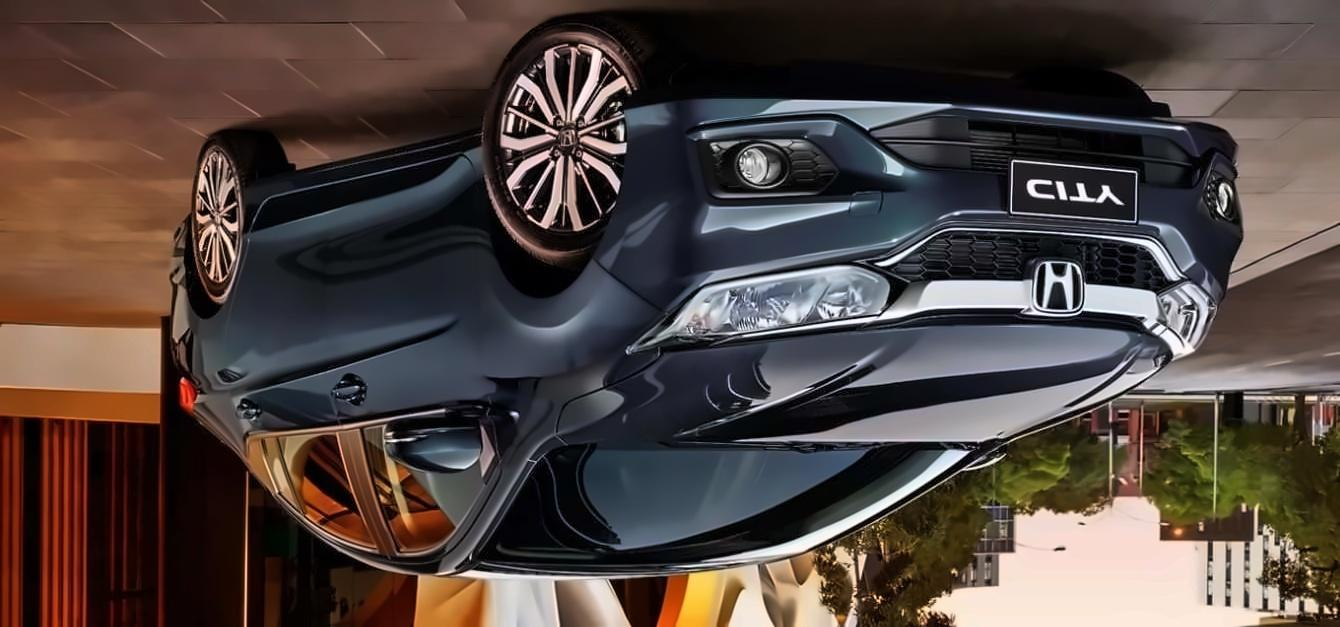Car hood: (554, 310, 1183, 448)
Fender - -F-L-: (473, 139, 676, 467)
Fender - -R-L-: (183, 204, 252, 390)
Front bumper: (594, 80, 1252, 313)
Headlight - -L-: (622, 253, 906, 356)
Headlight - -R-: (1137, 272, 1226, 368)
Passenger-s door - -F-L-: (330, 147, 476, 567)
Passenger-s door - -R-L-: (236, 174, 385, 566)
Rear bumper: (162, 203, 211, 353)
Rear light - -L-: (172, 356, 206, 422)
Side bumper - -L-: (223, 126, 493, 244)
Side mirror - -L-: (366, 395, 492, 482)
Side mirror - -R-: (953, 437, 1022, 487)
